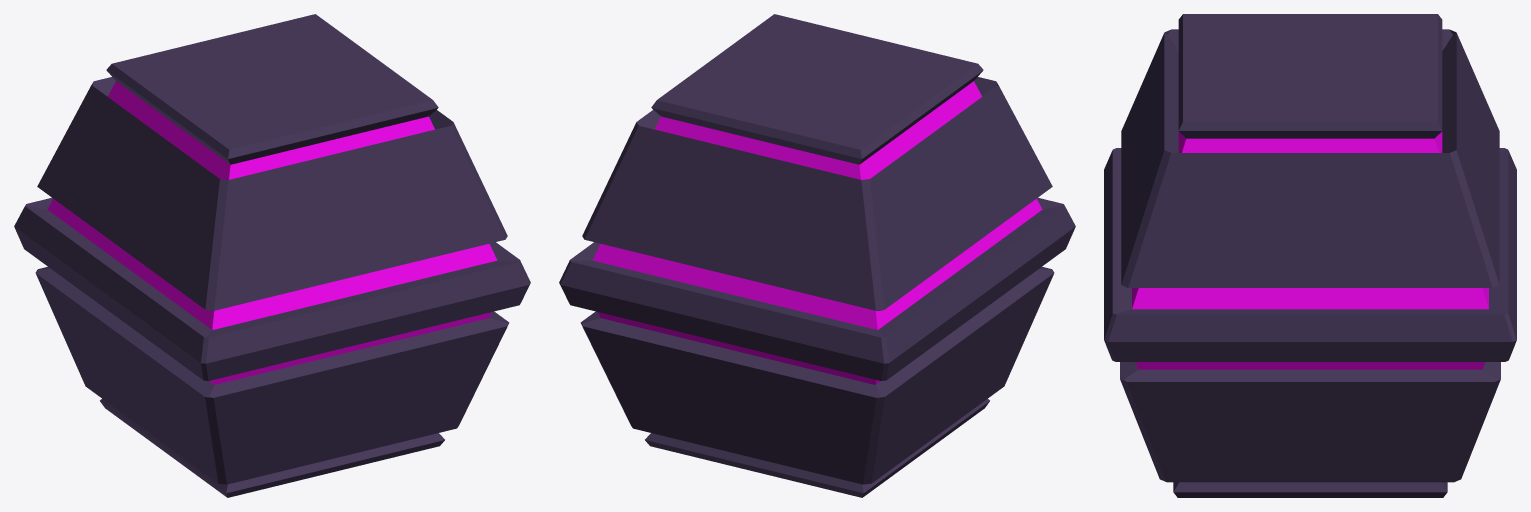
The model's file is rubish 2.fbx.
3 views of the same model, side by side, from view 1: azimuth 30°, elevation 25°; view 2: azimuth 150°, elevation 25°; view 3: azimuth 270°, elevation 25° (orthographic). The views are drawn at different scales.
Parts seen in each view (by area): view 1: Cube; view 2: Cube; view 3: Cube.
Boxes of the visible parts, x1=… form: Cube: x1=14, y1=14, x2=530, y2=497; Cube: x1=559, y1=14, x2=1075, y2=497; Cube: x1=1104, y1=14, x2=1516, y2=497.
Bounding box in the file's own units: 200 × 200 × 200.
